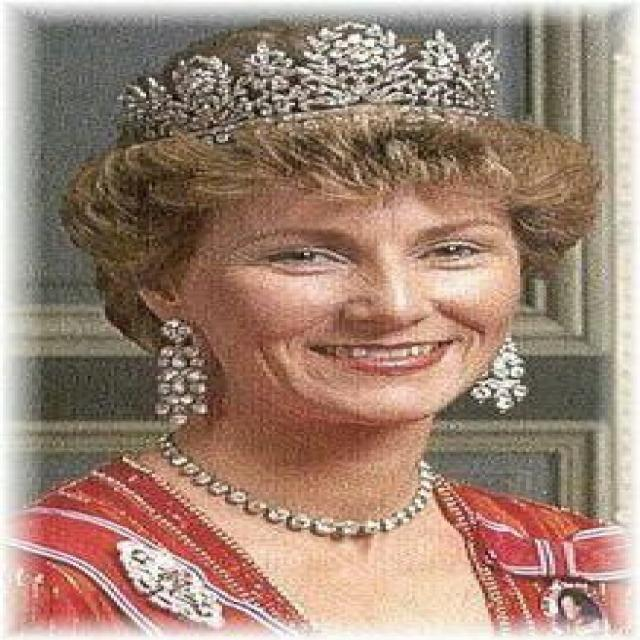Earring: (134, 304, 236, 434), (450, 308, 539, 423)
